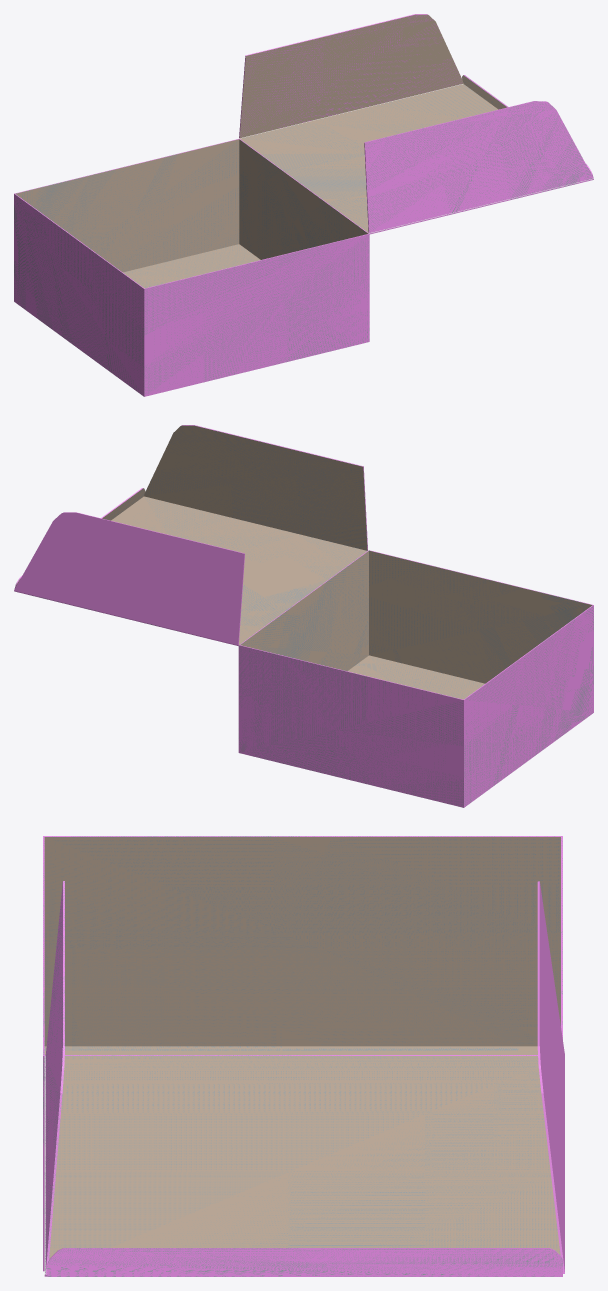
File: pink donut box 1.dae
The picture shows the model from 3 angles, top to bottom: view 1: azimuth 30°, elevation 25°; view 2: azimuth 150°, elevation 25°; view 3: azimuth 270°, elevation 25°; orthographic projection. The views are drawn at different scales.
Parts seen in each view (by area): view 1: group_0 (×2), group_2, group_3, group_1; view 2: group_0 (×2), group_3, group_2, group_1; view 3: group_0 (×2), group_1, group_4, group_3, group_2.
Boxes of the visible parts, x1=… form: group_0 (×2): x1=14, y1=138, x2=369, y2=396; group_2: x1=364, y1=101, x2=593, y2=233; group_3: x1=239, y1=14, x2=463, y2=138; group_1: x1=240, y1=84, x2=497, y2=232; group_0 (×2): x1=238, y1=550, x2=593, y2=807; group_3: x1=14, y1=512, x2=244, y2=644; group_2: x1=144, y1=425, x2=367, y2=550; group_1: x1=111, y1=496, x2=366, y2=645; group_0 (×2): x1=43, y1=836, x2=562, y2=1271; group_1: x1=49, y1=1056, x2=560, y2=1259; group_4: x1=47, y1=1248, x2=562, y2=1276; group_3: x1=537, y1=881, x2=564, y2=1273; group_2: x1=45, y1=881, x2=64, y2=1274.
Size of the model in its own units: 29.23 by 14.68 by 12.11.
